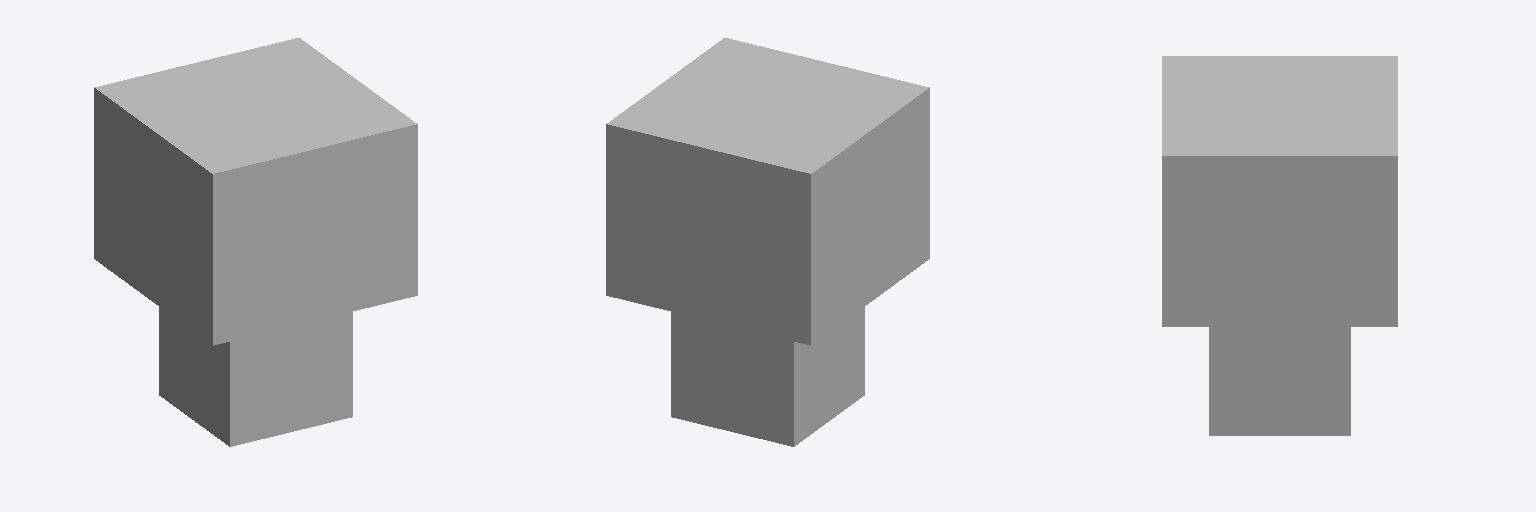
File: small tree.obj
The picture shows the model from 3 angles: view 1: azimuth 30°, elevation 25°; view 2: azimuth 150°, elevation 25°; view 3: azimuth 270°, elevation 25°; orthographic projection.
Visible parts, largest first — view 1: small tree; view 2: small tree; view 3: small tree.
Boxes of the visible parts, box(x1,y1,x2,y2) form: small tree: box(94, 38, 417, 446); small tree: box(606, 38, 929, 446); small tree: box(1162, 56, 1397, 435).
Size of the model in its own units: 5 by 7 by 5.